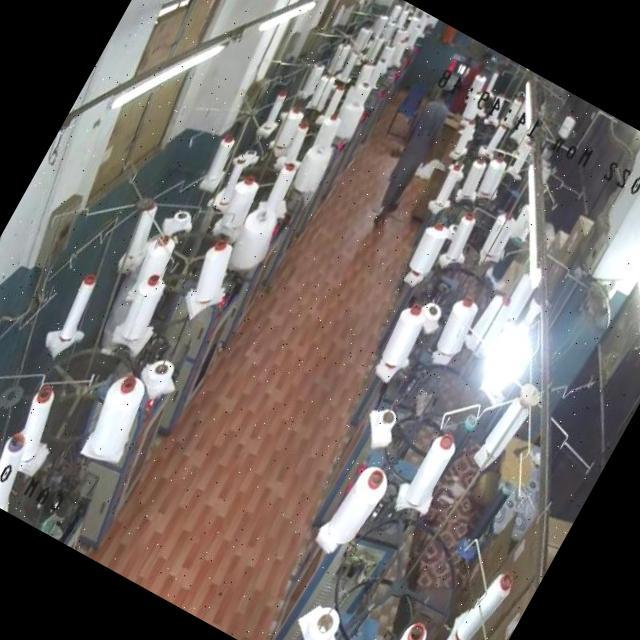person: (365, 76, 467, 229)
